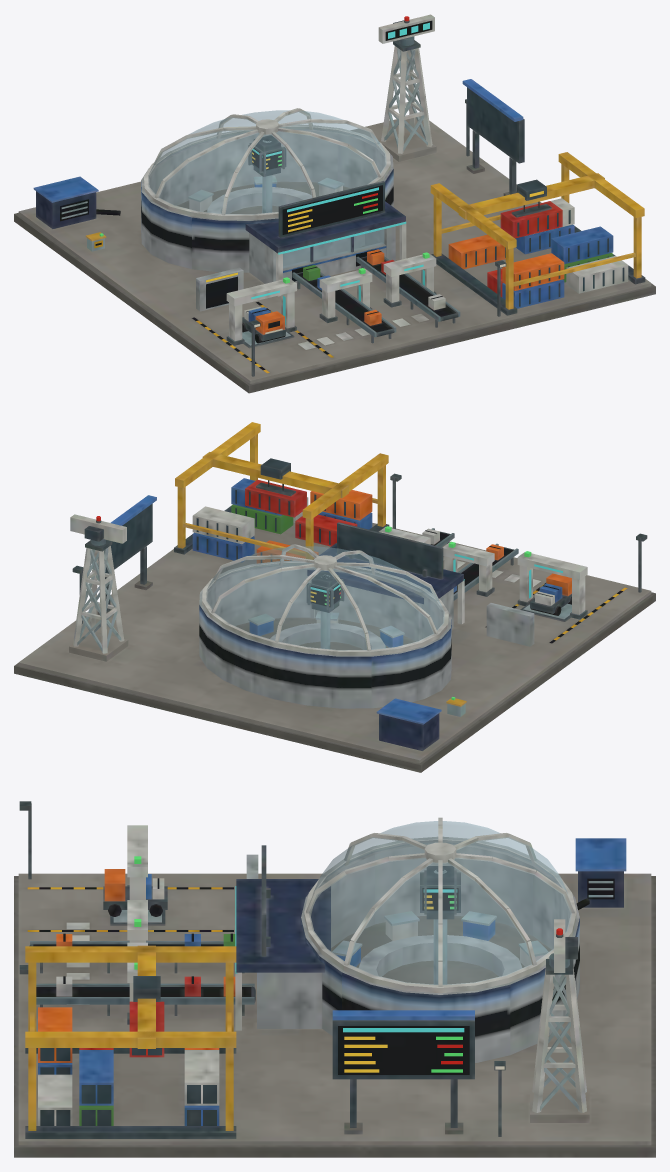
Rendered from trade_host.glb.
The picture shows the model from 3 angles, top to bottom: view 1: azimuth 30°, elevation 25°; view 2: azimuth 150°, elevation 25°; view 3: azimuth 270°, elevation 25°; orthographic projection. The views are drawn at different scales.
Parts seen in each view (by area): view 1: te_trade_host, move_sensor; view 2: te_trade_host, move_sensor; view 3: te_trade_host, move_sensor.
Part boxes in pixels (<box>): te_trade_host: <box>14,40,655,393</box>; move_sensor: <box>378,14,434,45</box>; te_trade_host: <box>14,422,655,772</box>; move_sensor: <box>70,514,126,545</box>; te_trade_host: <box>14,801,655,1157</box>; move_sensor: <box>549,919,577,972</box>.
Size of the model in its own units: 2.8 by 0.9394 by 2.8.
Materials: 2 (1 with a texture image).
